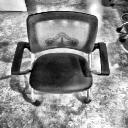chair_success: (10, 10, 113, 108)
